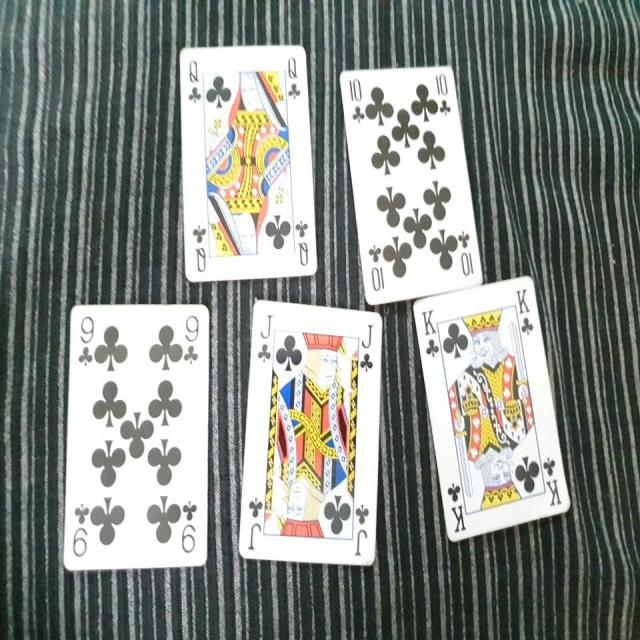10 Trefoils: (336, 61, 485, 306)
9 Trefoils: (58, 302, 211, 569)
J Trefoils: (237, 298, 386, 565)
K Trefoils: (410, 272, 572, 545)
Q Trefoils: (178, 42, 318, 282)
